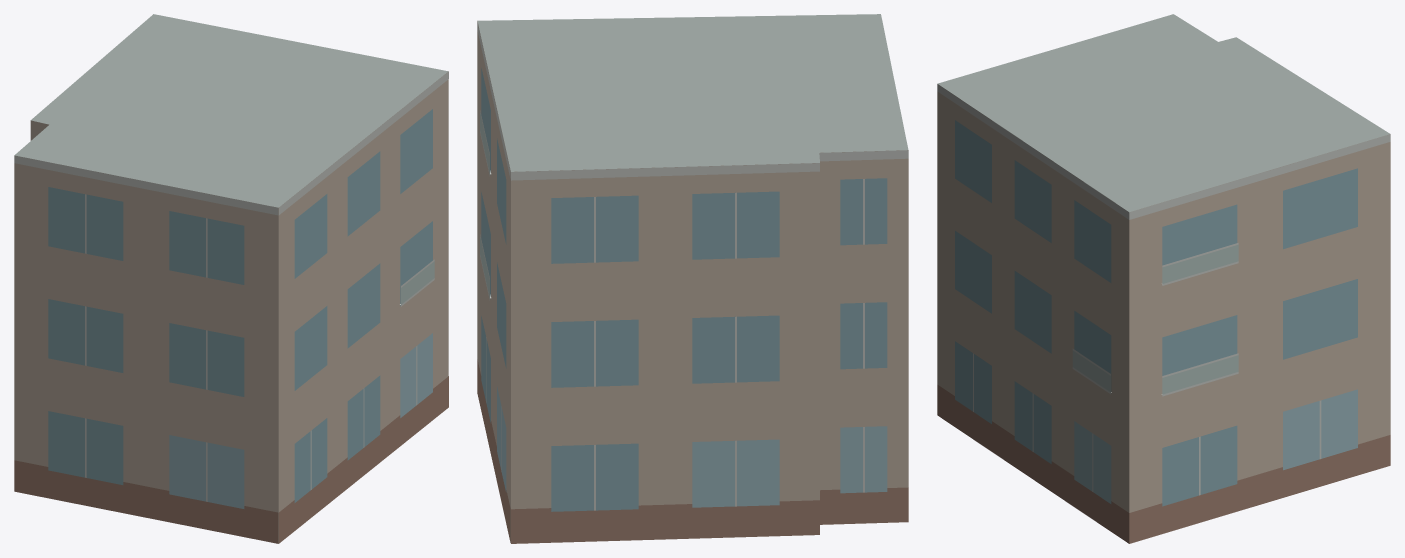
The model's file is survey-upis-32913704.glb.
3 views of the same model, side by side, from view 1: azimuth 30°, elevation 25°; view 2: azimuth 150°, elevation 25°; view 3: azimuth 270°, elevation 25° (orthographic). The views are drawn at different scales.
Visible parts, largest first — view 1: survey-upis-32913704.tmp; view 2: survey-upis-32913704.tmp; view 3: survey-upis-32913704.tmp.
Part boxes in pixels (x1,y1,x2,y2): survey-upis-32913704.tmp: [14, 14, 448, 543]; survey-upis-32913704.tmp: [477, 14, 908, 543]; survey-upis-32913704.tmp: [937, 14, 1390, 543].
Bounding box in the file's own units: 13.48 × 10.5 × 13.02.
